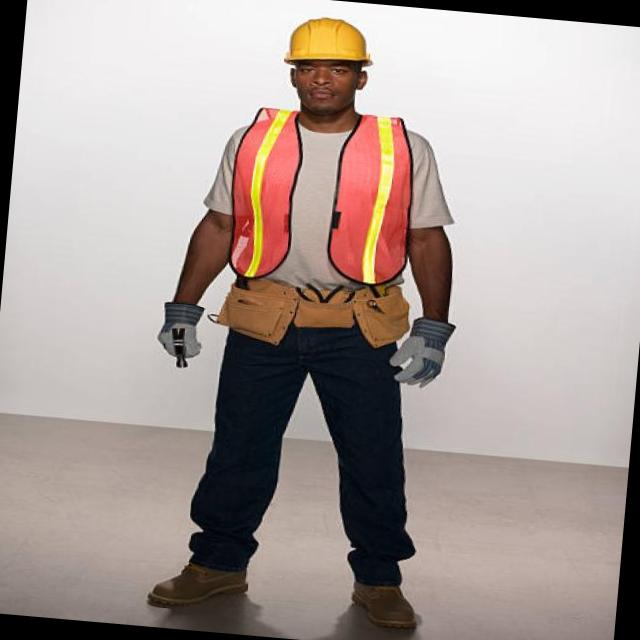Gloves: (381, 310, 456, 391), (148, 296, 208, 370)
